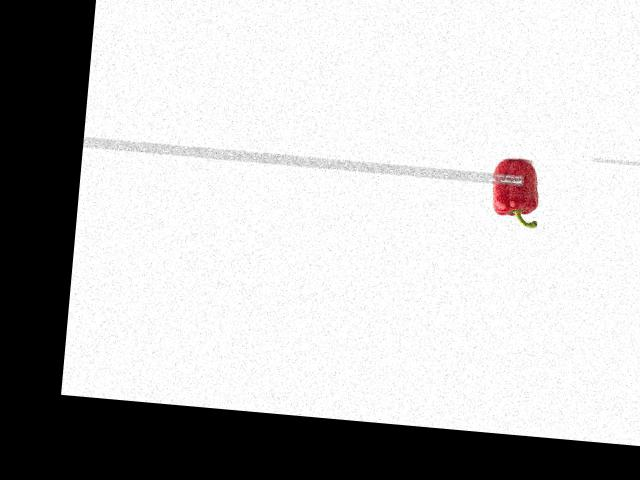bell_pepper: (485, 158, 548, 232)
